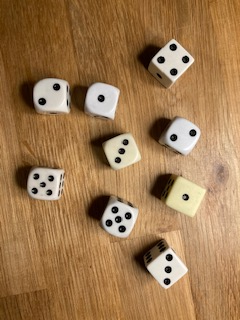five: (96, 192, 141, 239), (23, 163, 68, 204)
four: (145, 37, 196, 89)
one: (157, 171, 209, 220), (82, 81, 122, 123)
three: (140, 238, 190, 291), (100, 130, 143, 172)
two: (156, 114, 203, 157), (30, 75, 75, 118)
